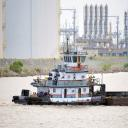tugboat: (13, 35, 107, 109)
